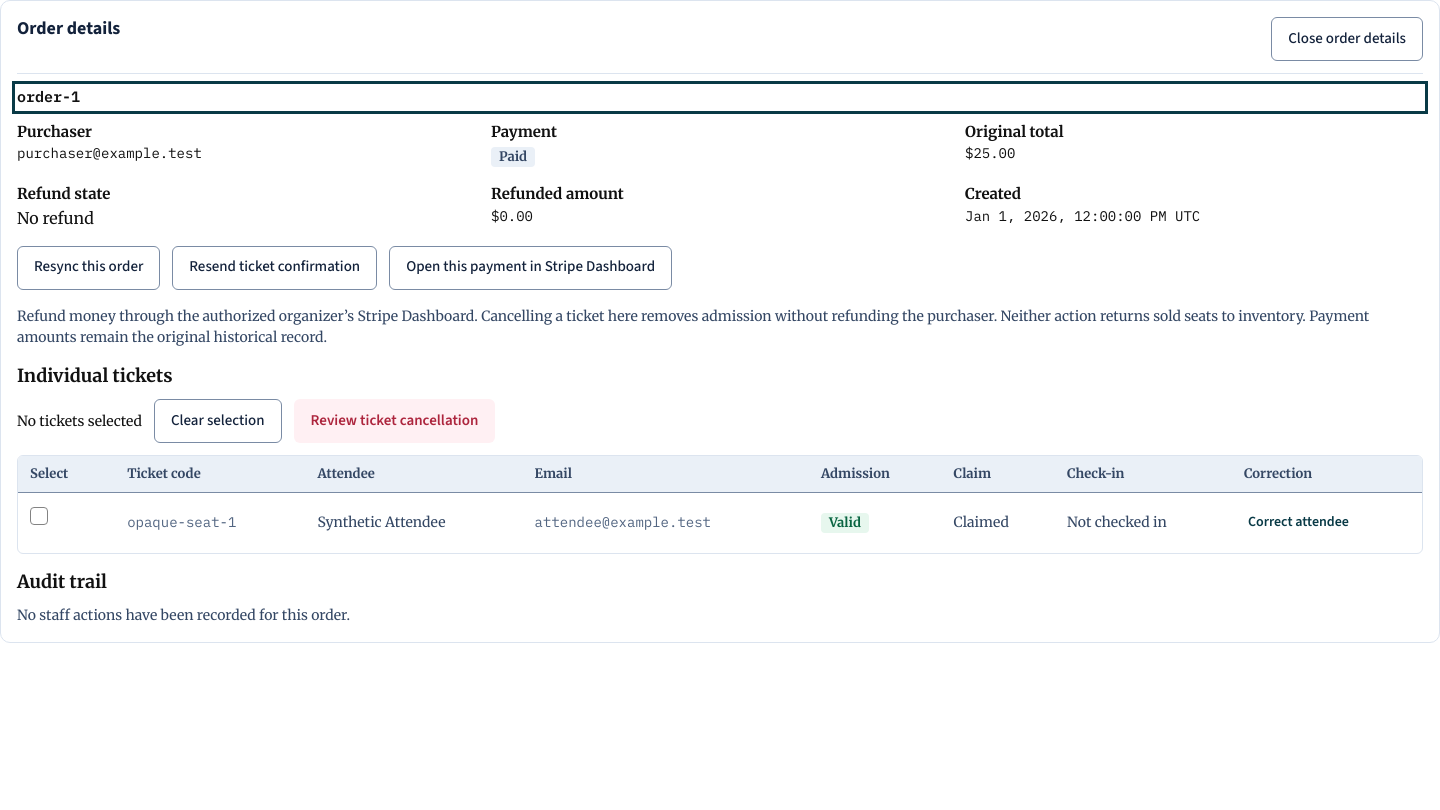
Test: organizer order management › locks email corrections on an already claimed ticket and does not expose ticket transfers
Click the button "Correct attendee" at (1298, 523), box top-left (1244, 510), bottom-right (1353, 535)
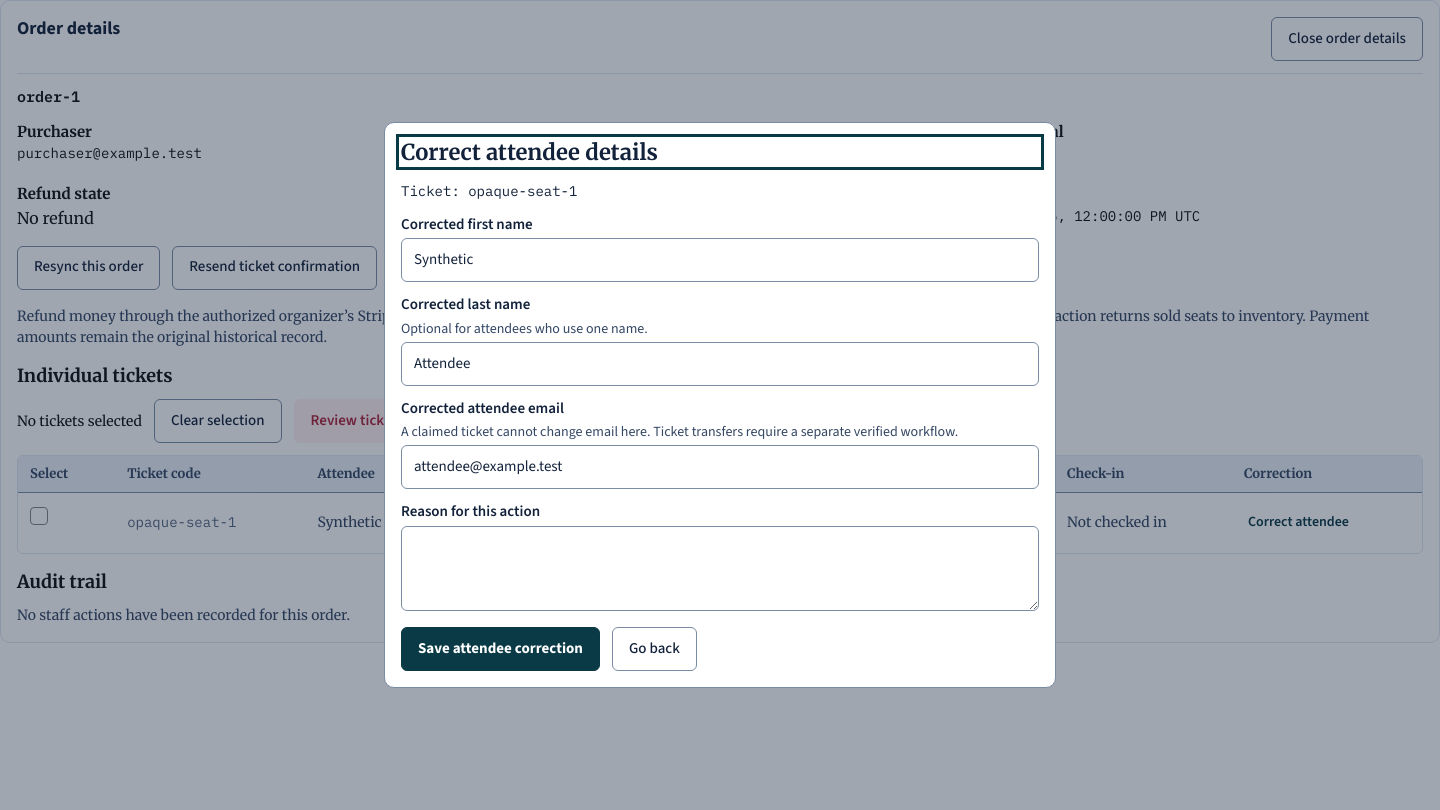
expect the text "claimed ticket cannot change email" is shown: met, box top-left (401, 422), bottom-right (958, 442)
